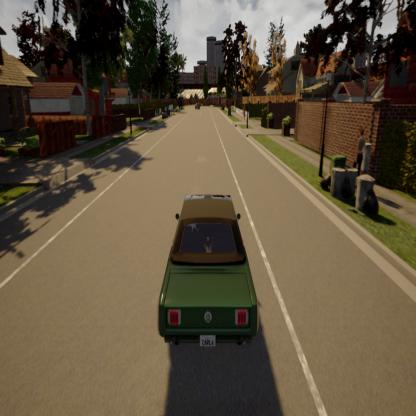Cars: (159, 194, 258, 352), (195, 101, 199, 108)
Pedestrian: (356, 125, 364, 168), (242, 105, 246, 120)
